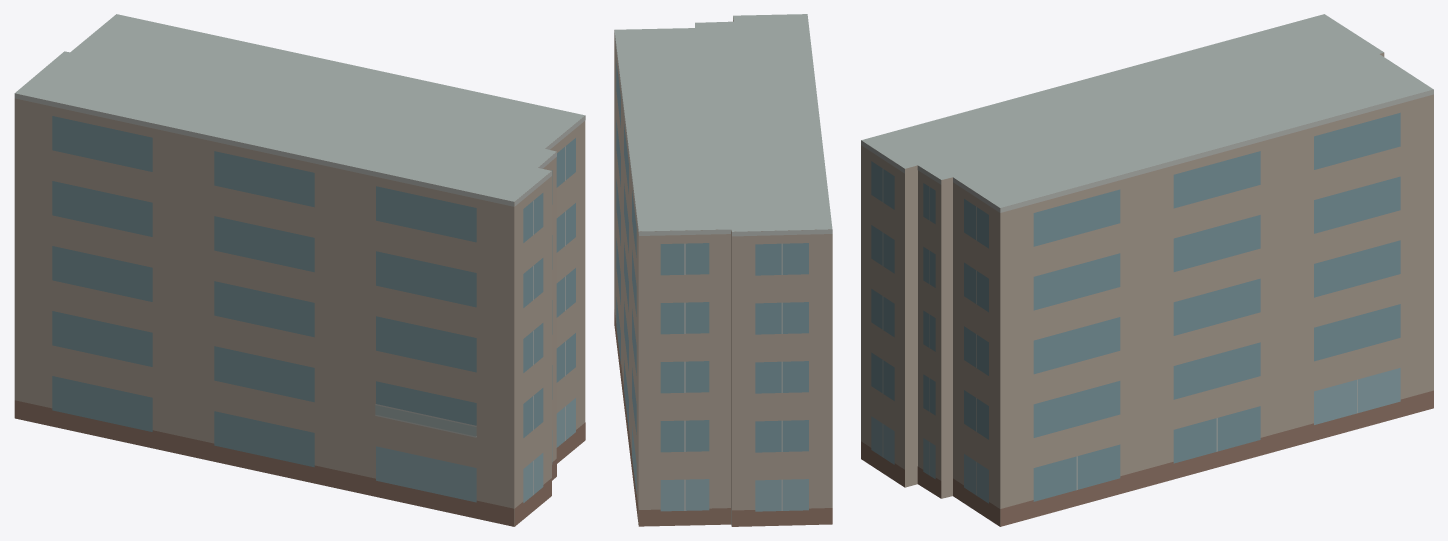
File: survey-upis-32870474.glb
3 renders of one model, left to right at view 1: azimuth 30°, elevation 25°; view 2: azimuth 150°, elevation 25°; view 3: azimuth 270°, elevation 25°, orthographic. The views are drawn at different scales.
Parts seen in each view (by area): view 1: survey-upis-32870474.tmp; view 2: survey-upis-32870474.tmp; view 3: survey-upis-32870474.tmp.
Part boxes in pixels (bbox=[...]): survey-upis-32870474.tmp: bbox=[14, 14, 585, 526]; survey-upis-32870474.tmp: bbox=[614, 14, 832, 526]; survey-upis-32870474.tmp: bbox=[861, 14, 1433, 526].
Size of the model in its own units: 20.51 by 15.7 by 25.57.
